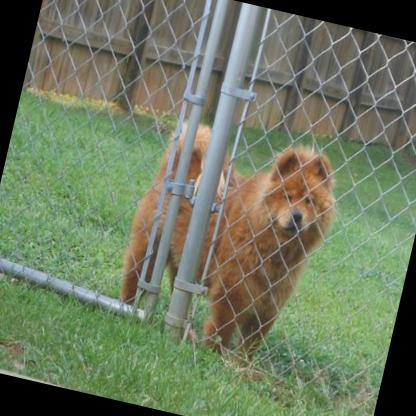chow: (107, 108, 348, 374)
